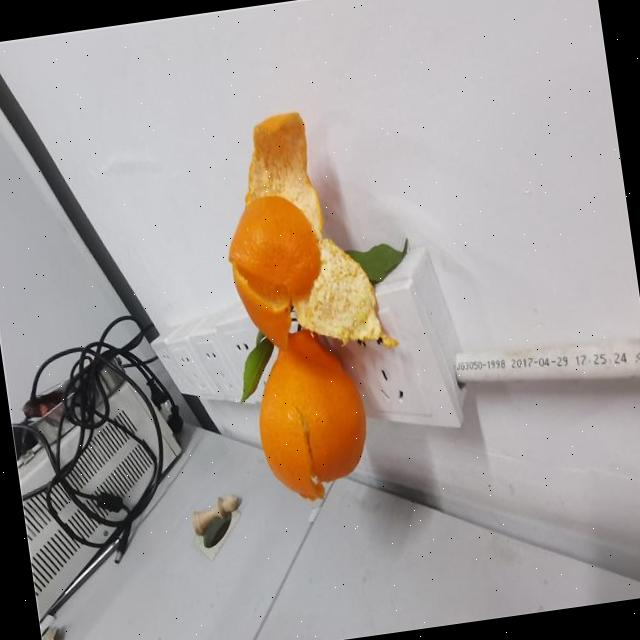orange-peel: (245, 320, 376, 507)
